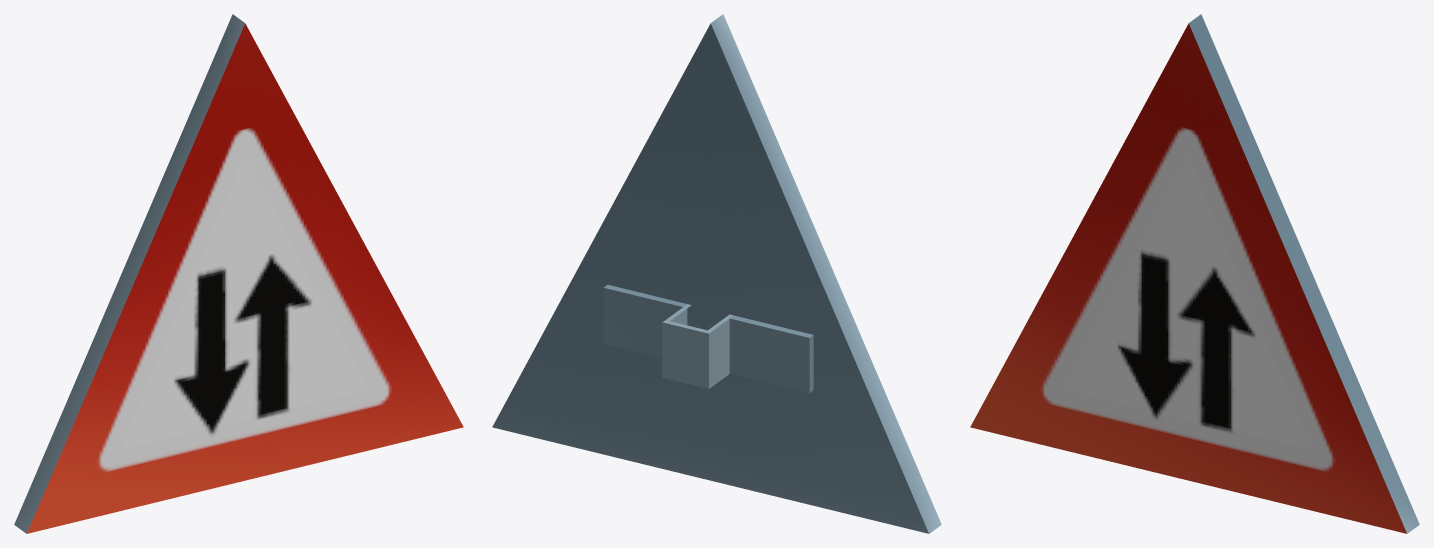
Rendered from Sign8Austrian.fbx.
3 renders of one model, left to right at view 1: azimuth 30°, elevation 25°; view 2: azimuth 150°, elevation 25°; view 3: azimuth 330°, elevation 25°, orthographic.
Parts seen in each view (by area): view 1: Sign8Austrian; view 2: Sign8Austrian; view 3: Sign8Austrian.
Part boxes in pixels (bbox=[...]): Sign8Austrian: bbox=[14, 14, 463, 533]; Sign8Austrian: bbox=[492, 14, 941, 533]; Sign8Austrian: bbox=[970, 14, 1419, 533].
Size of the model in its own units: 1 by 1 by 0.1489.
